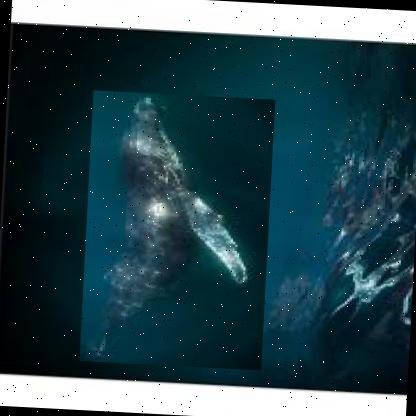blue_whale: (77, 90, 274, 371)
